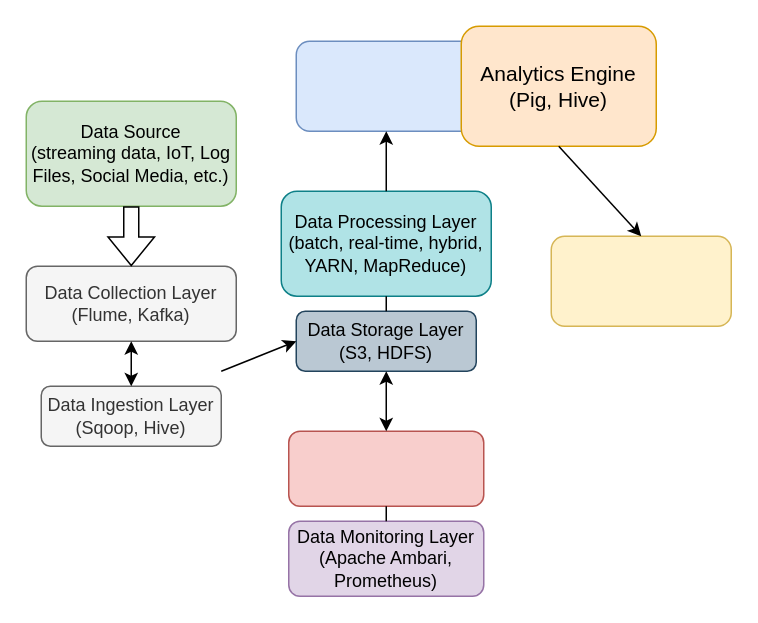
This 758x623 diagram has some shape labels left out. Each missing label, with the centre of its shape:
Data Query Layer (SQL, Hive): pixel 385 85
Data Security Layer (Apache Ranger & Sentry): pixel 385 468
Data Visualisation Layer (Power BI, Plot.ly: pixel 640 280
